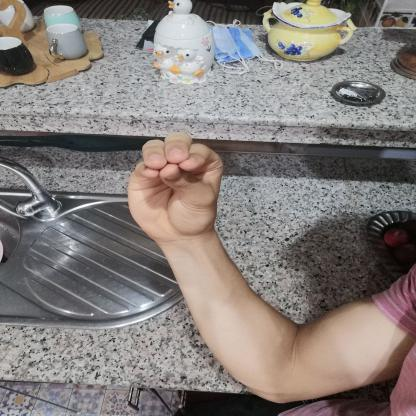HA: (110, 119, 244, 255)
